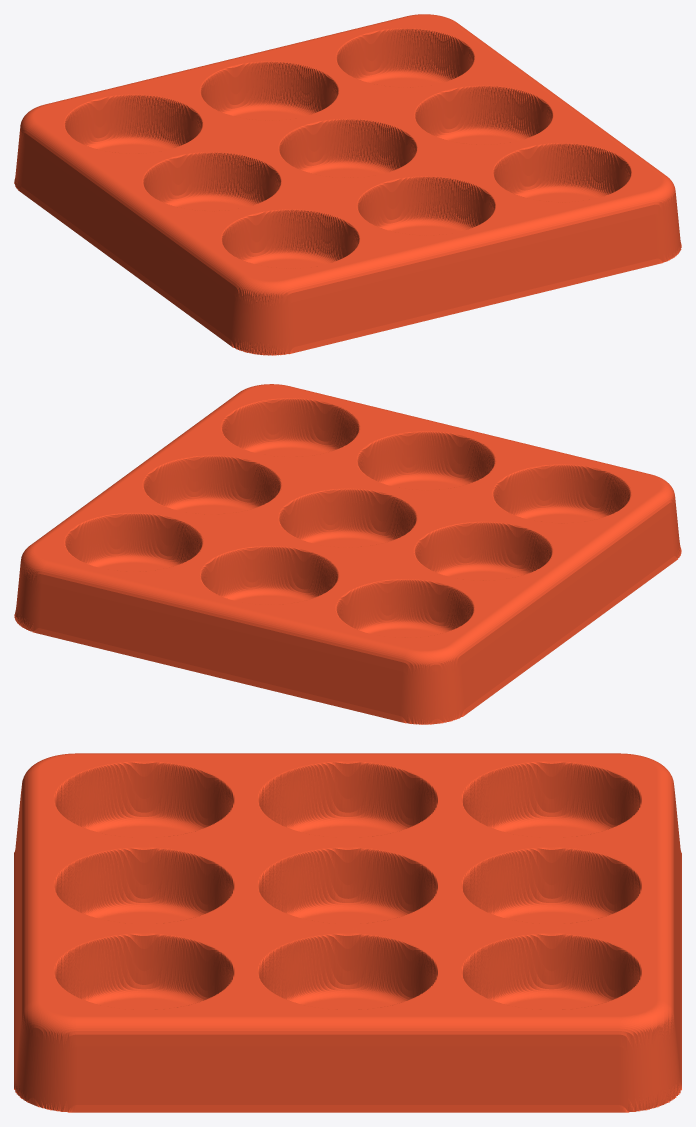
File: mold.glb
3 views of the same model, one above another, from view 1: azimuth 30°, elevation 25°; view 2: azimuth 150°, elevation 25°; view 3: azimuth 270°, elevation 25° (orthographic). The views are drawn at different scales.
Visible parts, largest first — view 1: geometry_0; view 2: geometry_0; view 3: geometry_0.
Boxes of the visible parts, x1=… form: geometry_0: x1=14, y1=14, x2=681, y2=355; geometry_0: x1=14, y1=384, x2=681, y2=724; geometry_0: x1=14, y1=753, x2=681, y2=1112.
Bounding box in the file's own units: 0.0964 × 0.0136 × 0.0964.
